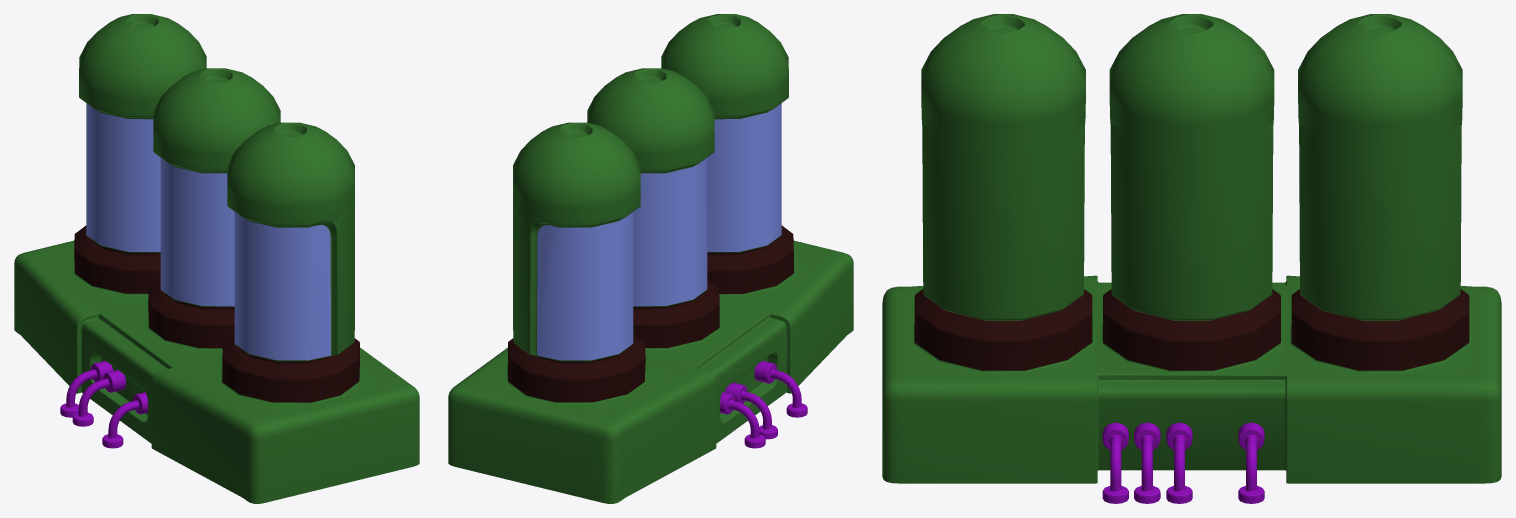
Rendered from Prop001.fbx.
The picture shows the model from 3 angles, left to right: view 1: azimuth 30°, elevation 25°; view 2: azimuth 150°, elevation 25°; view 3: azimuth 270°, elevation 25°; orthographic projection. The views are drawn at different scales.
Parts seen in each view (by area): view 1: P001; view 2: P001; view 3: P001.
Boxes of the visible parts, x1,y1,x2,y2 form: P001: [14, 14, 419, 503]; P001: [448, 14, 853, 503]; P001: [882, 14, 1501, 503].
Bounding box in the file's own units: 83.91 × 102 × 140.
